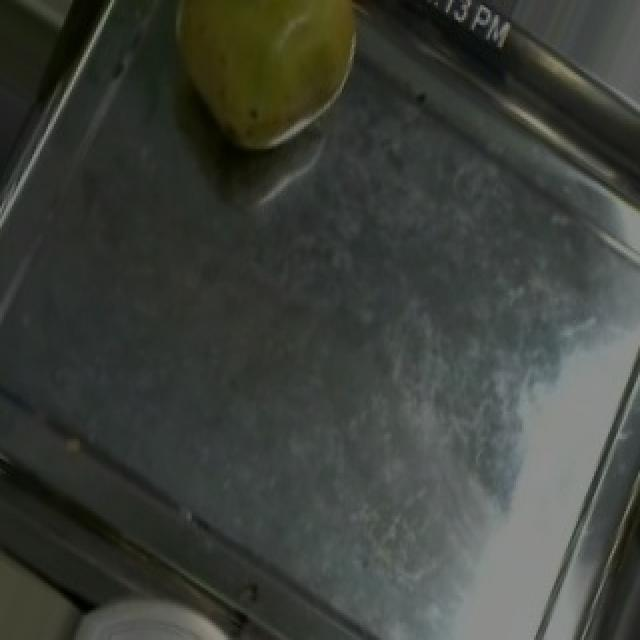fruit: (142, 3, 398, 176)
